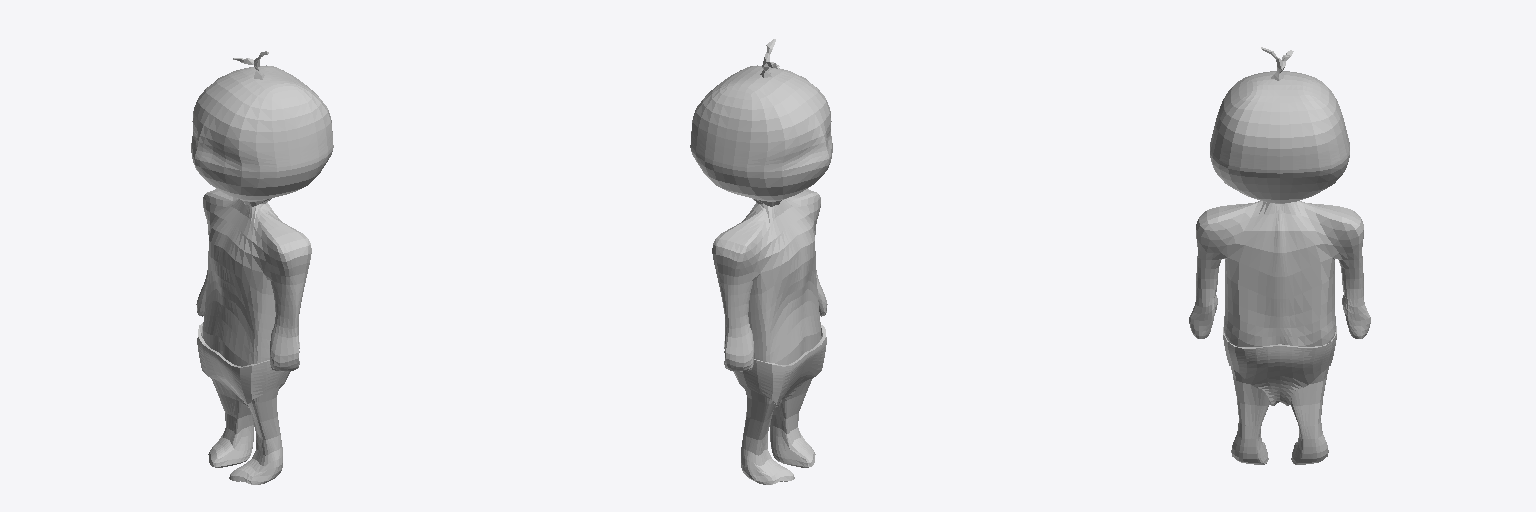
Rendered from baby.obj.
The picture shows the model from 3 angles: view 1: azimuth 30°, elevation 25°; view 2: azimuth 150°, elevation 25°; view 3: azimuth 270°, elevation 25°; orthographic projection.
Parts seen in each view (by area): view 1: Baby; view 2: Baby; view 3: Baby.
Part boxes in pixels (x1,y1,x2,y2): Baby: (191,51,333,484); Baby: (690,39,832,484); Baby: (1189,47,1370,464).
Bounding box in the file's own units: 0.9973 × 3.25 × 1.27.